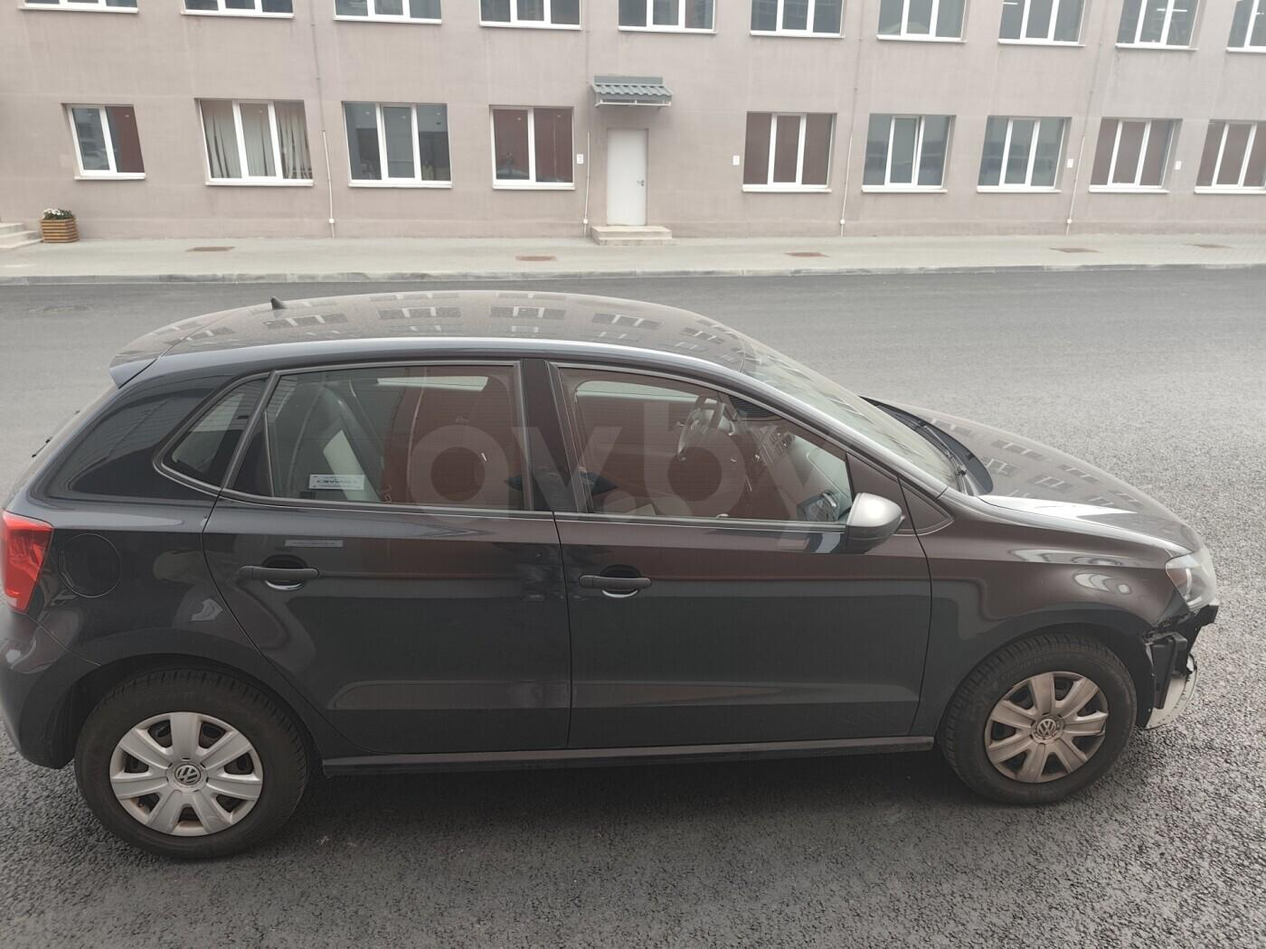Polo_2009-2015: (0, 296, 1244, 864)
